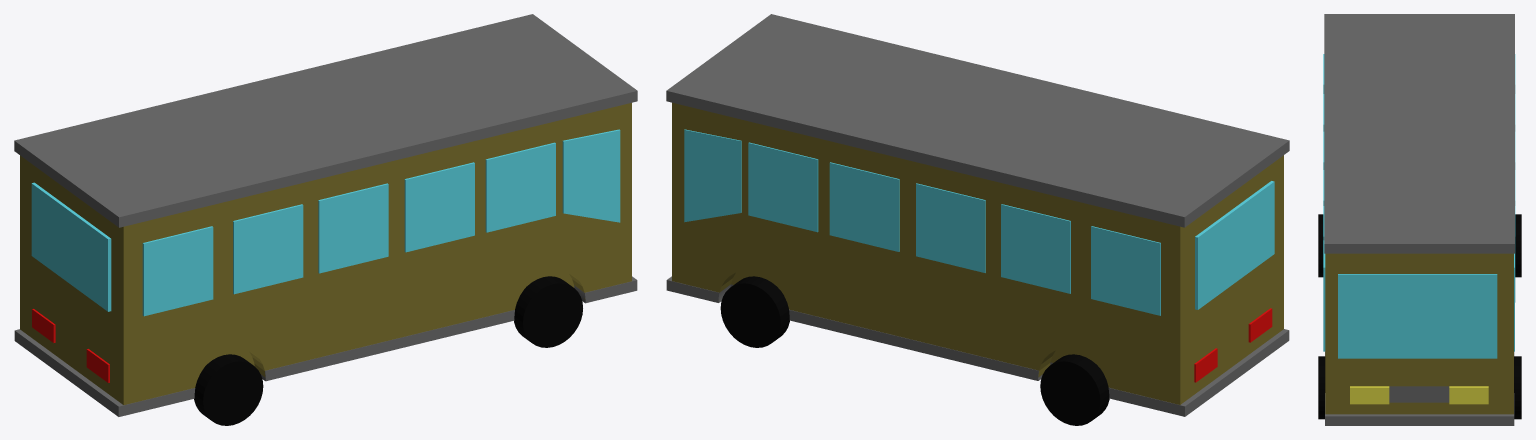
File: bus2.fbx
3 views of the same model, side by side, from view 1: azimuth 30°, elevation 25°; view 2: azimuth 150°, elevation 25°; view 3: azimuth 270°, elevation 25° (orthographic). The views are drawn at different scales.
Visible parts, largest first — view 1: Cube, Cube.002, Cube.001, Cylinder.003, Cube.003; view 2: Cube, Cube.002, Cube.001, Cylinder.003, Cube.003; view 3: Cube.002, Cube, Cube.001, Cylinder.003, Cube.003.
Part boxes in pixels (x1,y1,x2,y2): Cube: [20, 103, 631, 404]; Cube.002: [14, 14, 637, 416]; Cube.001: [31, 129, 620, 316]; Cylinder.003: [194, 276, 582, 425]; Cube.003: [32, 309, 109, 382]; Cube: [672, 102, 1283, 404]; Cube.002: [666, 14, 1289, 416]; Cube.001: [684, 129, 1274, 315]; Cylinder.003: [720, 276, 1109, 425]; Cube.003: [1194, 308, 1272, 382]; Cube.002: [1324, 14, 1514, 425]; Cube: [1325, 253, 1513, 414]; Cube.001: [1323, 54, 1515, 358]; Cylinder.003: [1318, 214, 1521, 419]; Cube.003: [1350, 386, 1488, 404].
Bounding box in the file's own units: 577 × 247 × 215.
